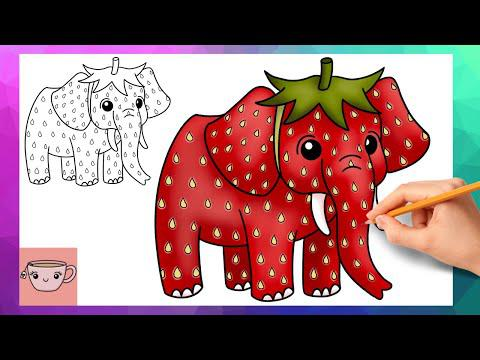strawberry-elephant: (157, 70, 430, 302)
